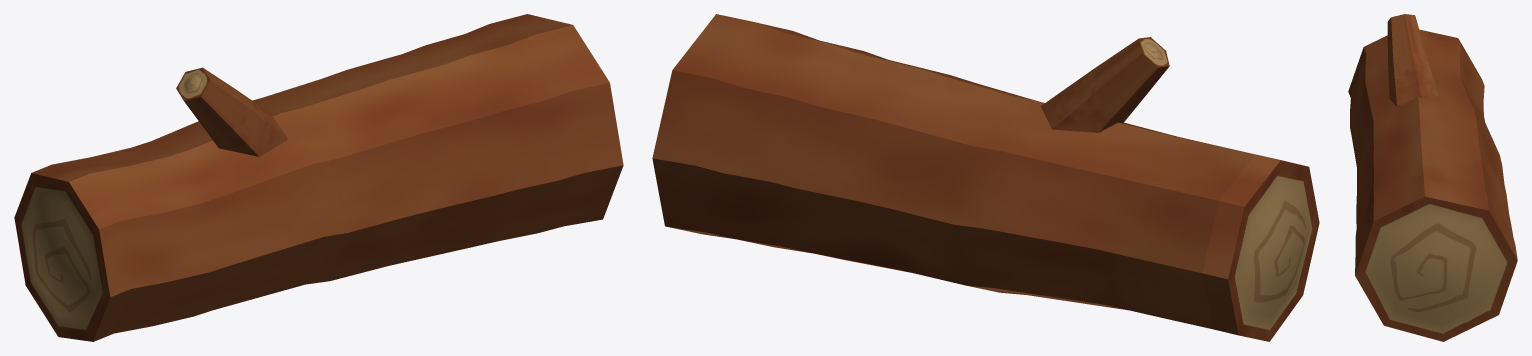
Rendered from wood.fbx.
3 views of the same model, side by side, from view 1: azimuth 30°, elevation 25°; view 2: azimuth 150°, elevation 25°; view 3: azimuth 270°, elevation 25° (orthographic). The views are drawn at different scales.
Parts seen in each view (by area): view 1: wood; view 2: wood; view 3: wood.
Boxes of the visible parts, x1,y1,x2,y2 form: wood: (14,14,623,341); wood: (652,14,1319,341); wood: (1348,14,1517,341).
Size of the model in its own units: 636 by 293 by 236.
